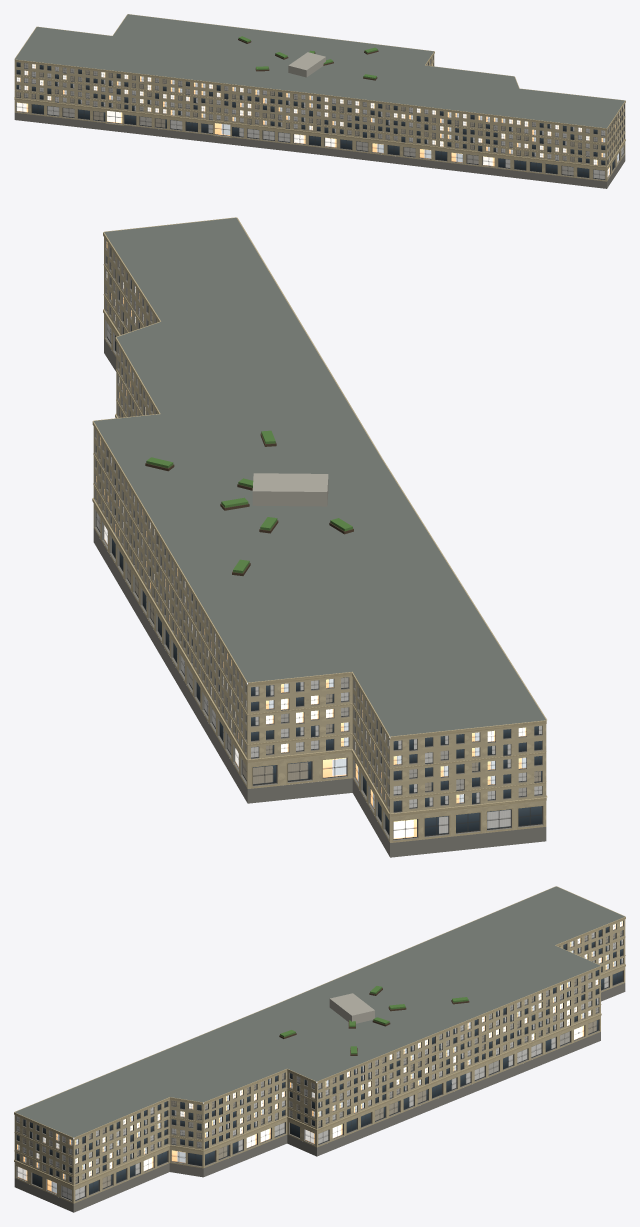
Rendered from kalkbreite.glb.
3 renders of one model, top to bottom at view 1: azimuth 30°, elevation 25°; view 2: azimuth 150°, elevation 25°; view 3: azimuth 270°, elevation 25°, orthographic. The views are drawn at different scales.
Parts seen in each view (by area): view 1: kalkbreite; view 2: kalkbreite; view 3: kalkbreite.
Part boxes in pixels (box(x1,y1,x2,y2)): kalkbreite: box(14, 14, 625, 188); kalkbreite: box(92, 217, 547, 857); kalkbreite: box(14, 886, 625, 1212).
Bounding box in the file's own units: 180 × 28 × 185.
3 materials, 3 textured.
